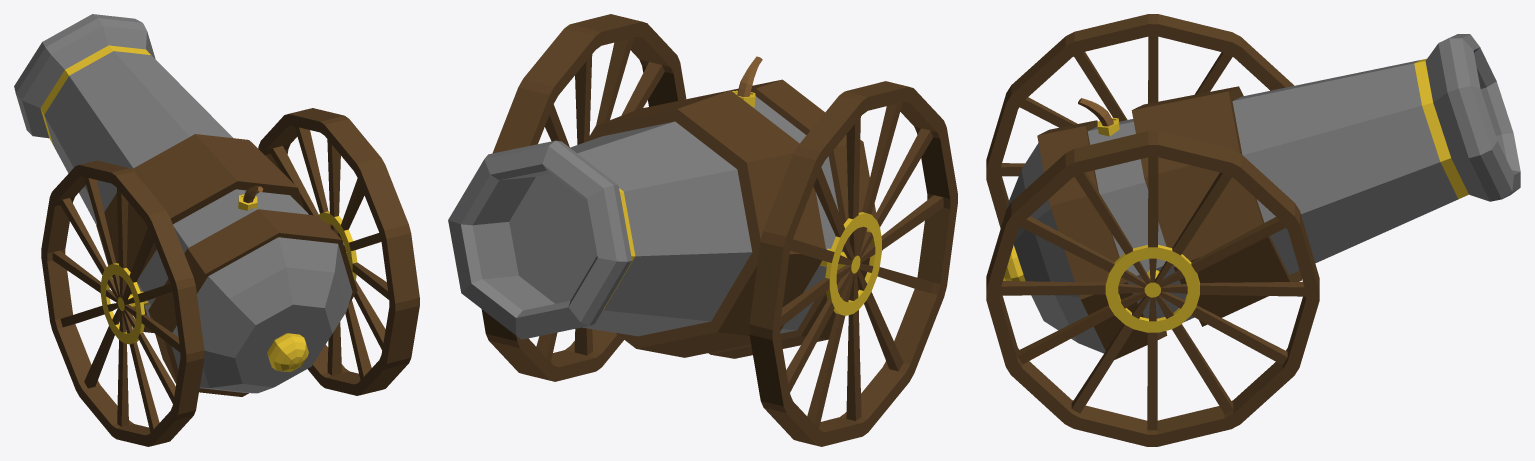
Rendered from Cannon.fbx.
3 views of the same model, side by side, from view 1: azimuth 30°, elevation 25°; view 2: azimuth 150°, elevation 25°; view 3: azimuth 270°, elevation 25° (orthographic). The views are drawn at different scales.
Visible parts, largest first — view 1: Cannon, Cannon Left Wheel, Cannon Right Wheel; view 2: Cannon, Cannon Left Wheel, Cannon Right Wheel; view 3: Cannon, Cannon Right Wheel, Cannon Left Wheel.
Boxes of the visible parts, box(x1,y1,x2,y2) form: Cannon: box(14, 14, 357, 396); Cannon Left Wheel: box(41, 160, 204, 446); Cannon Right Wheel: box(258, 108, 419, 395); Cannon: box(448, 56, 882, 358); Cannon Left Wheel: box(749, 81, 957, 446); Cannon Right Wheel: box(481, 14, 686, 381); Cannon: box(1003, 34, 1520, 359); Cannon Right Wheel: box(986, 131, 1319, 446); Cannon Left Wheel: box(986, 14, 1294, 228).
Bounding box in the file's own units: 130 × 158 × 224.
